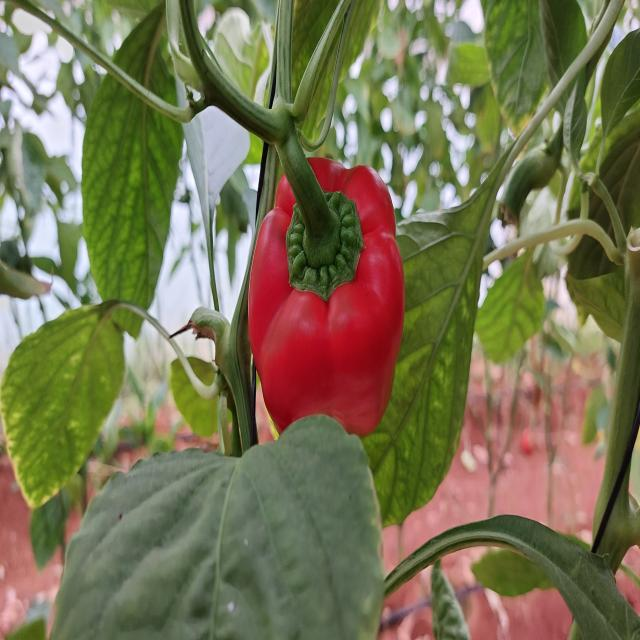BrownishRed--Can-be-Harvested: (245, 157, 410, 457)
